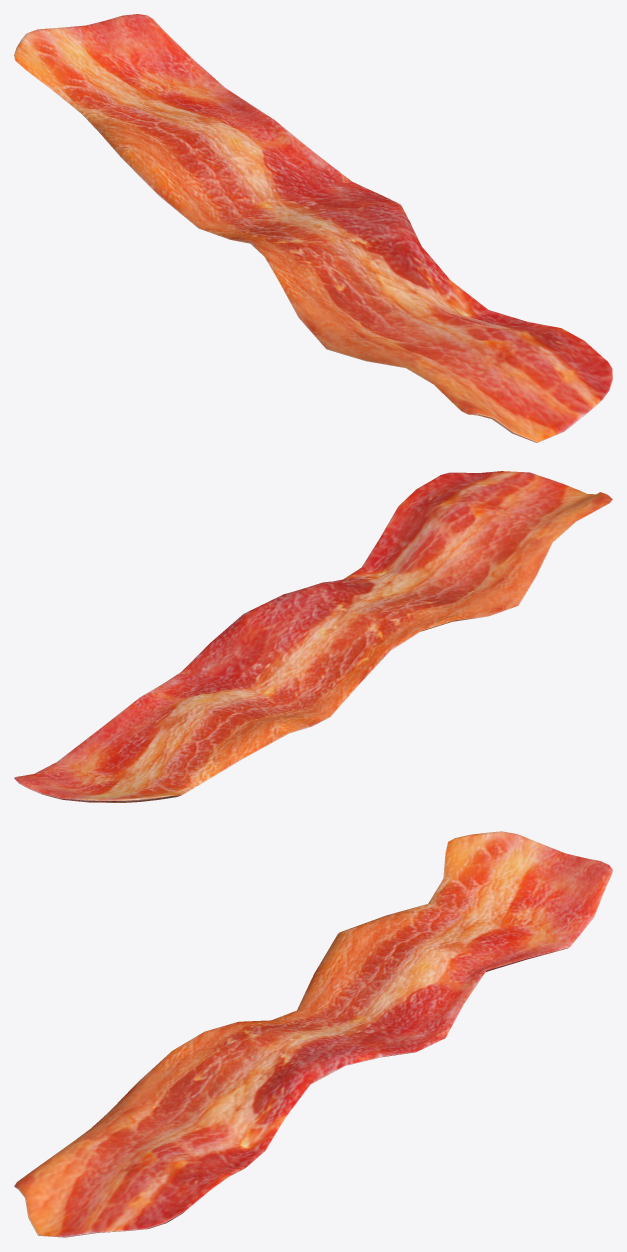
Rendered from bacon.fbx.
3 views of the same model, one above another, from view 1: azimuth 30°, elevation 25°; view 2: azimuth 150°, elevation 25°; view 3: azimuth 330°, elevation 25° (orthographic). The views are drawn at different scales.
Parts seen in each view (by area): view 1: fried_bacon_one_3; view 2: fried_bacon_one_3; view 3: fried_bacon_one_3.
Part boxes in pixels (x1=…): fried_bacon_one_3: x1=14, y1=14, x2=612, y2=442; fried_bacon_one_3: x1=14, y1=471, x2=612, y2=802; fried_bacon_one_3: x1=14, y1=831, x2=612, y2=1237.
Bounding box in the file's own units: 0.217 × 0.0583 × 1.
1 material, 1 textured.
